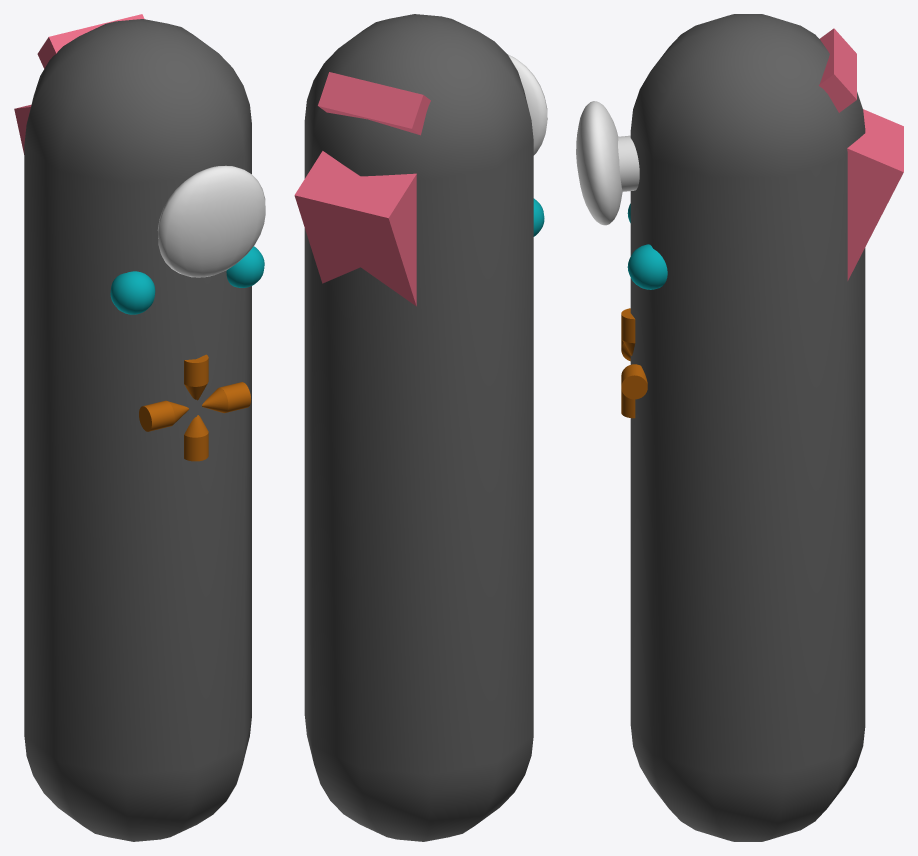
The model's file is wandanim.fbx.
The picture shows the model from 3 angles, left to right: view 1: azimuth 30°, elevation 25°; view 2: azimuth 150°, elevation 25°; view 3: azimuth 270°, elevation 25°; orthographic projection.
Visible parts, largest first — view 1: Capsule, Ball.2, Ball.1, Ball, Box.1, Cylinder.1.3, Cylinder.1.1, Cylinder.1.2, Cylinder.1; view 2: Capsule, Box, Box.1, Ball.2; view 3: Capsule, Box, Ball.2, Box.1, Ball, Cylinder, Cylinder.1.2.
Boxes of the visible parts, x1,y1,x2,y2 form: Capsule: (24, 19, 251, 841); Ball.2: (157, 165, 265, 277); Ball.1: (110, 271, 155, 314); Ball: (226, 246, 264, 287); Box.1: (37, 14, 144, 68); Cylinder.1.3: (139, 400, 174, 431); Cylinder.1.1: (184, 354, 208, 386); Cylinder.1.2: (220, 382, 251, 412); Cylinder.1: (184, 433, 208, 461); Capsule: (304, 14, 533, 841); Box: (294, 151, 416, 306); Box.1: (318, 72, 430, 135); Ball.2: (507, 54, 547, 155); Capsule: (630, 14, 865, 841); Box: (847, 109, 903, 280); Ball.2: (576, 101, 622, 225); Box.1: (818, 28, 856, 112); Ball: (627, 244, 667, 289); Cylinder: (618, 135, 639, 191); Cylinder.1.2: (621, 364, 647, 399).
Size of the model in its own units: 0.0476 by 0.19 by 0.0698.
